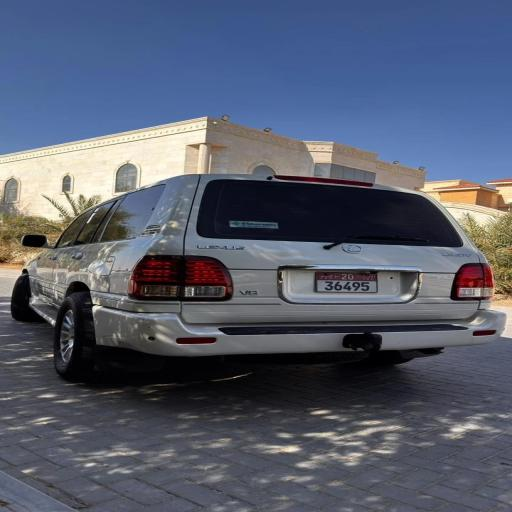license-plates: (316, 272, 377, 292)
